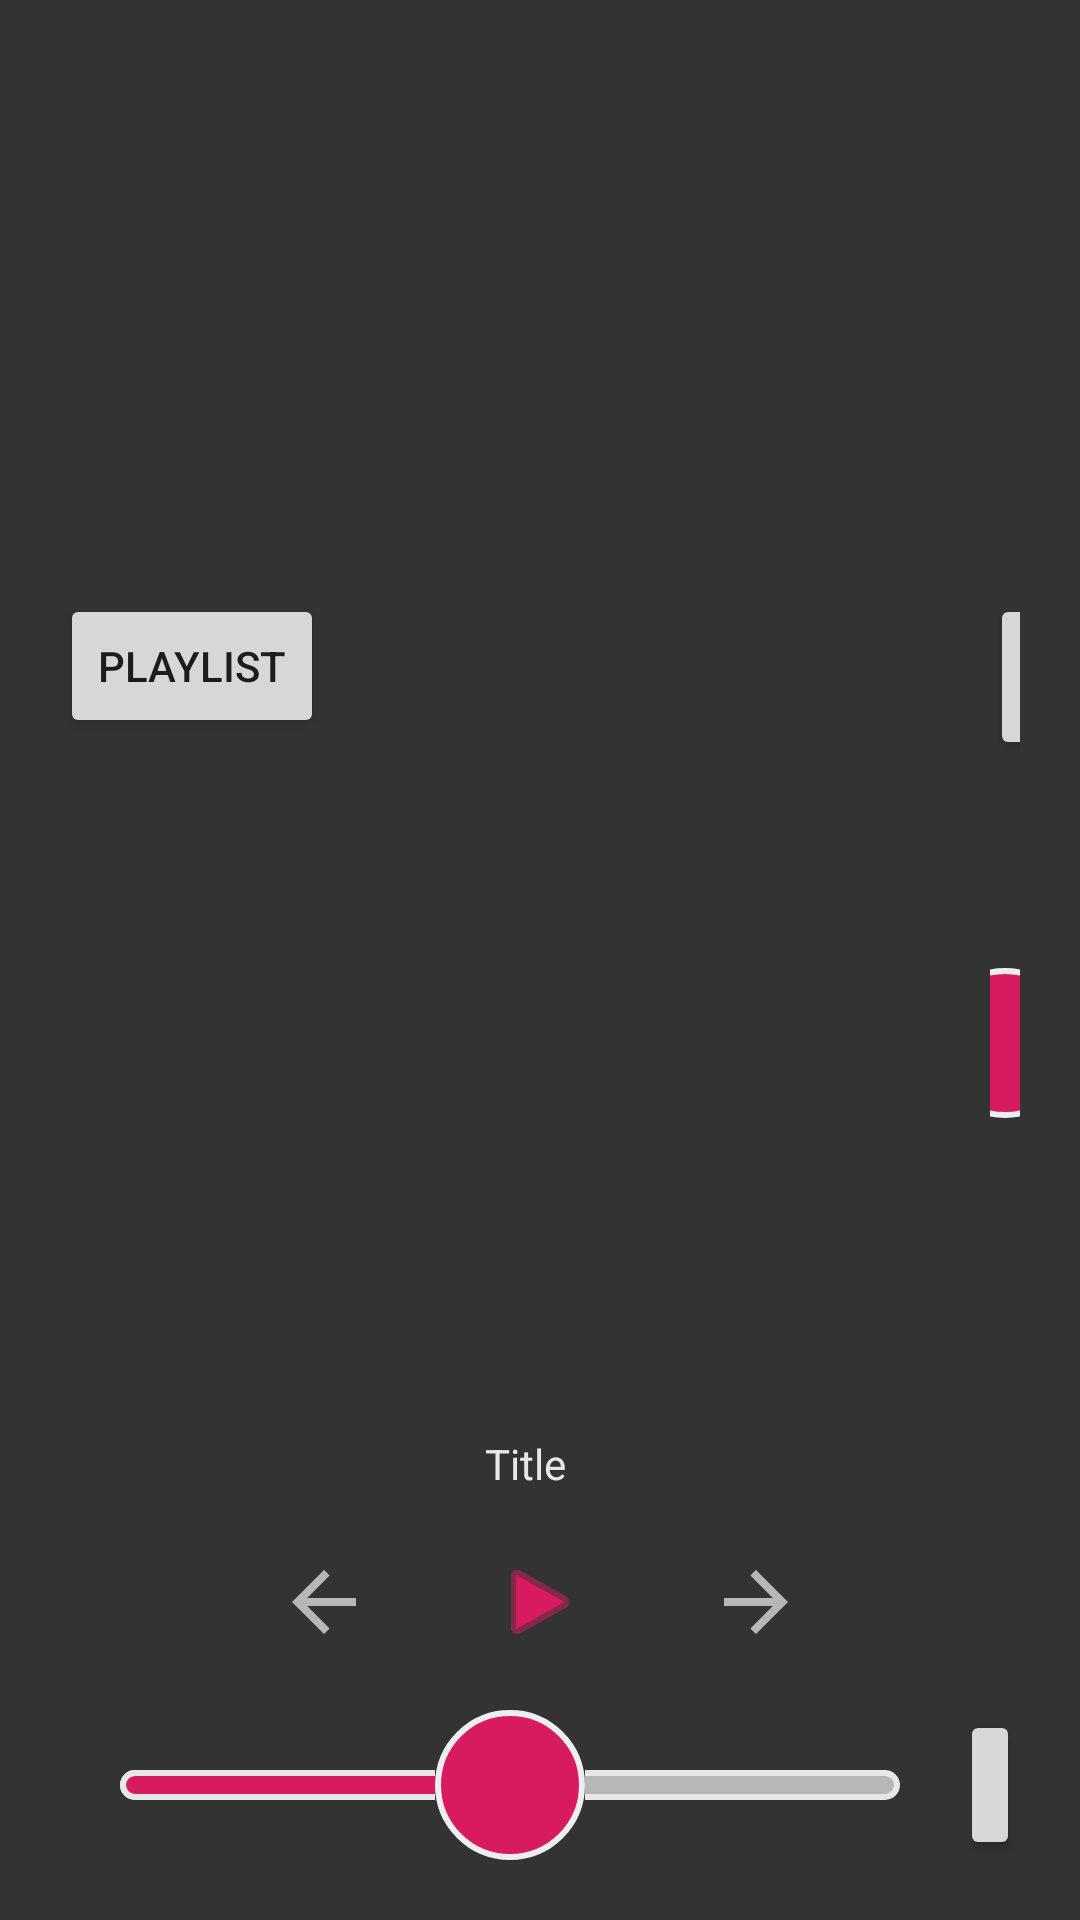

Icons on this 1080*1920 Android screen, each with the point to tap as (x,y):
play: (540,1602)
